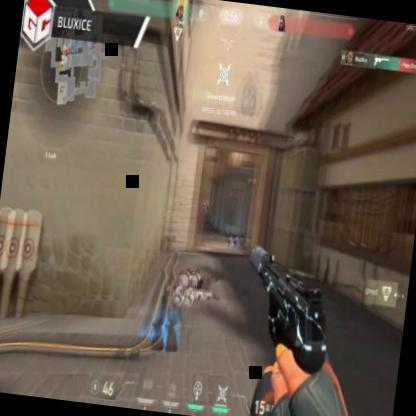enemy: (201, 198, 207, 216)
enemy_head: (203, 200, 205, 204)
